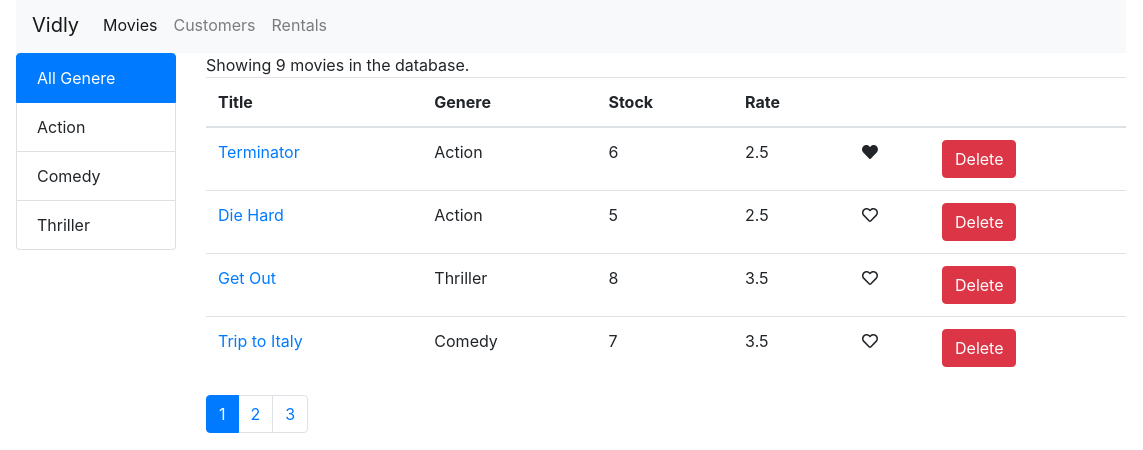
it: should match pagination
The image size is (1143, 450).
Click the link with test id "page-2": click(255, 414) x1=238 y1=395 x2=273 y2=433
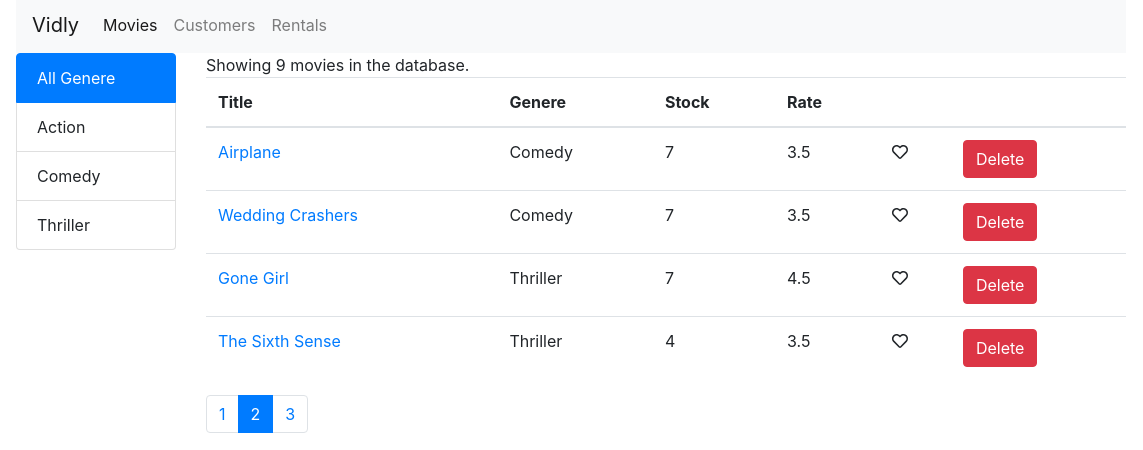
Now the link "Airplane" is shown, box x1=218 y1=142 x2=281 y2=162
Click the link with test id "page-3": click(290, 414) x1=272 y1=395 x2=308 y2=433
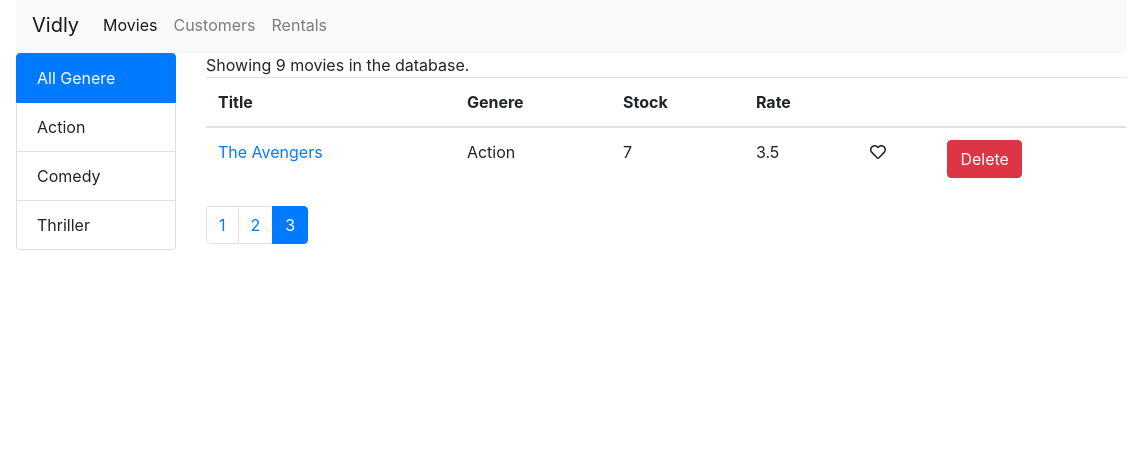
Now the link "The Avengers" is shown, box x1=218 y1=142 x2=323 y2=162
